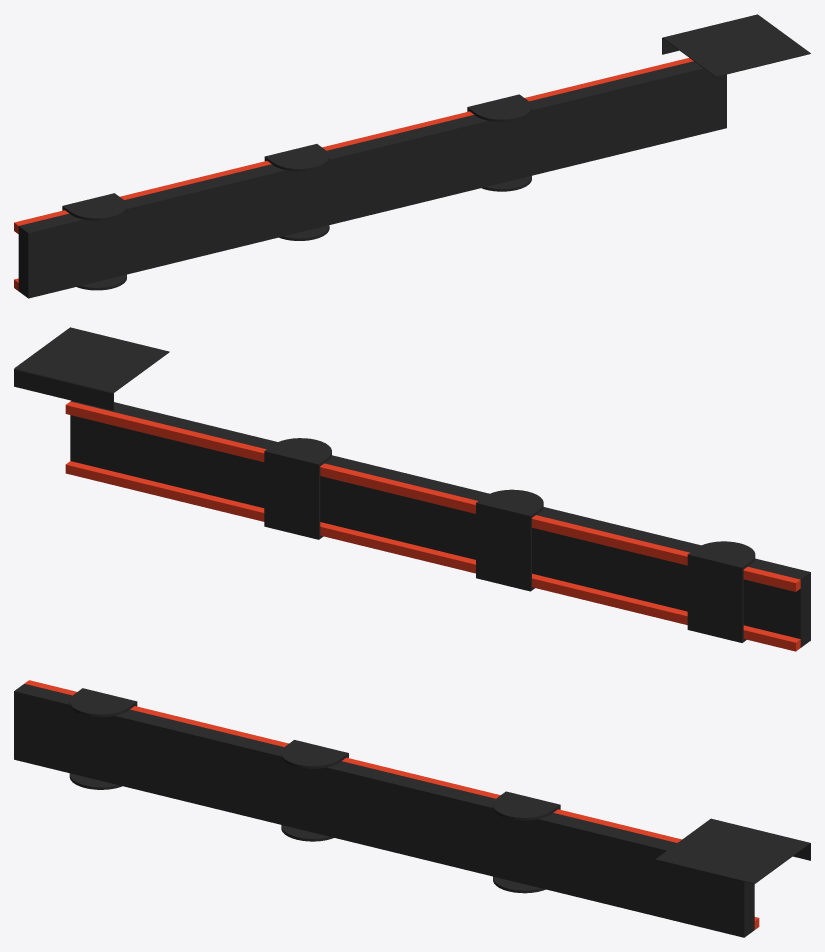
The model's file is GuideRail.obj.
The picture shows the model from 3 angles, top to bottom: view 1: azimuth 30°, elevation 25°; view 2: azimuth 150°, elevation 25°; view 3: azimuth 330°, elevation 25°; orthographic projection. The views are drawn at different scales.
Bounding box in the file's own units: 3.68 × 0.4418 × 0.46.
